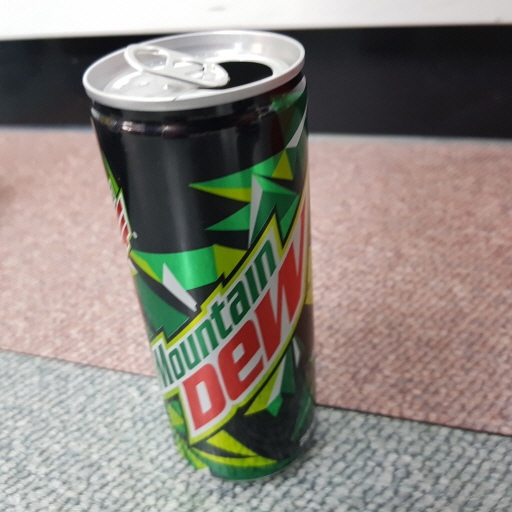Metal_0: (81, 30, 322, 479)
